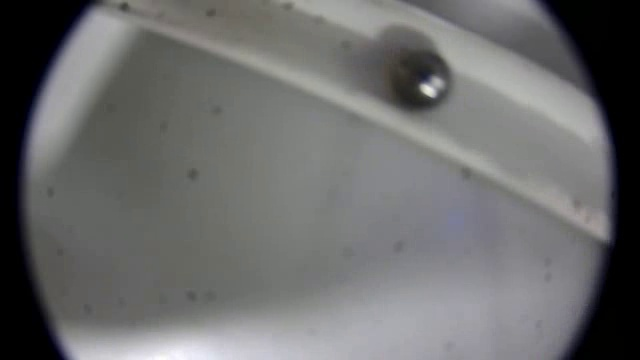gangzhu: (356, 29, 459, 111)
